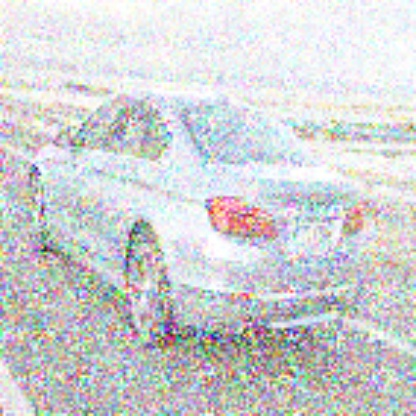Vehicle: (25, 87, 371, 353)
